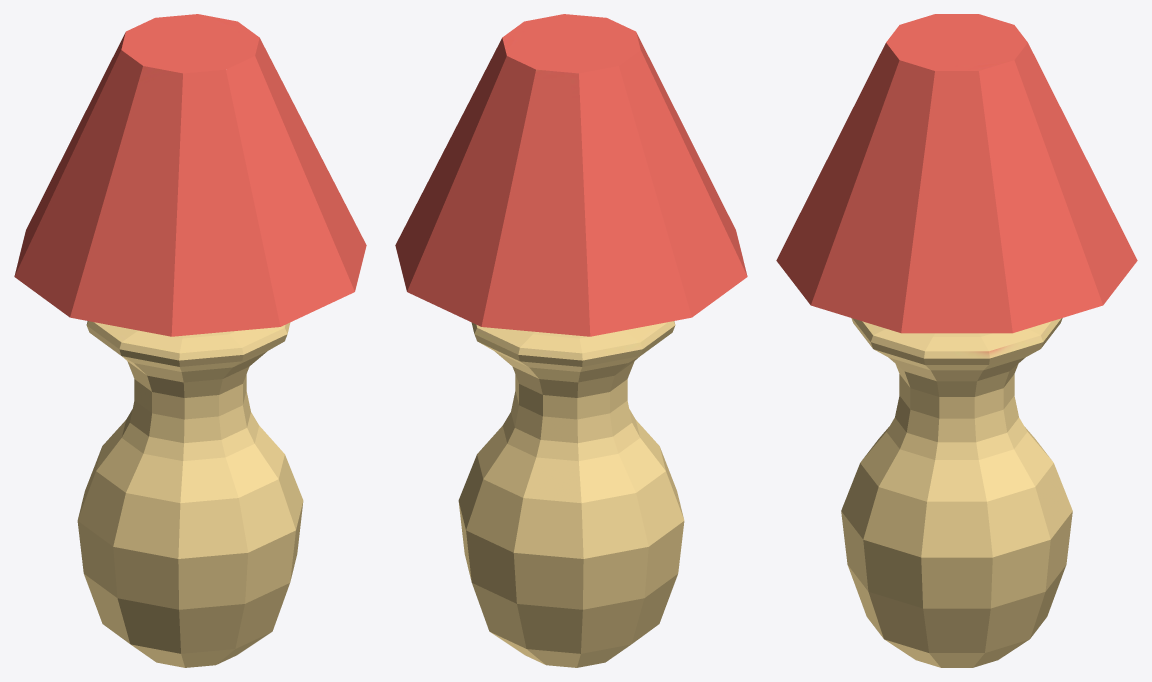
Rendered from lamp_small.obj.
3 renders of one model, left to right at view 1: azimuth 30°, elevation 25°; view 2: azimuth 150°, elevation 25°; view 3: azimuth 270°, elevation 25°, orthographic.
Parts seen in each view (by area): view 1: lamp_small_Cylinder.002; view 2: lamp_small_Cylinder.002; view 3: lamp_small_Cylinder.002.
Part boxes in pixels (x1=…): lamp_small_Cylinder.002: x1=14, y1=14, x2=366, y2=667; lamp_small_Cylinder.002: x1=395, y1=14, x2=747, y2=667; lamp_small_Cylinder.002: x1=776, y1=14, x2=1137, y2=667.
Bounding box in the file's own units: 1.03 × 2 × 1.08.
